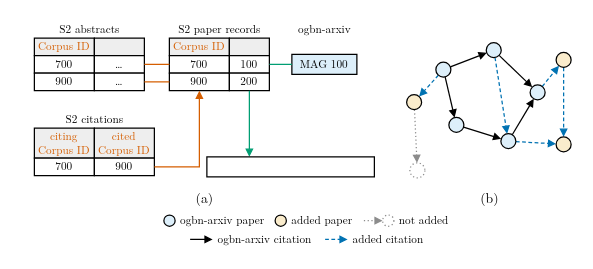
Image size: 593x269. Some labels were removed from this diagram. The shapes that lost their labels are listed below. From the top down, each one's centre as x and y in pixels, then its label:
the point at 118,46: abstract
the point at 248,46: MAG
the point at 290,166: citation: MAG 100 → MAG 200
